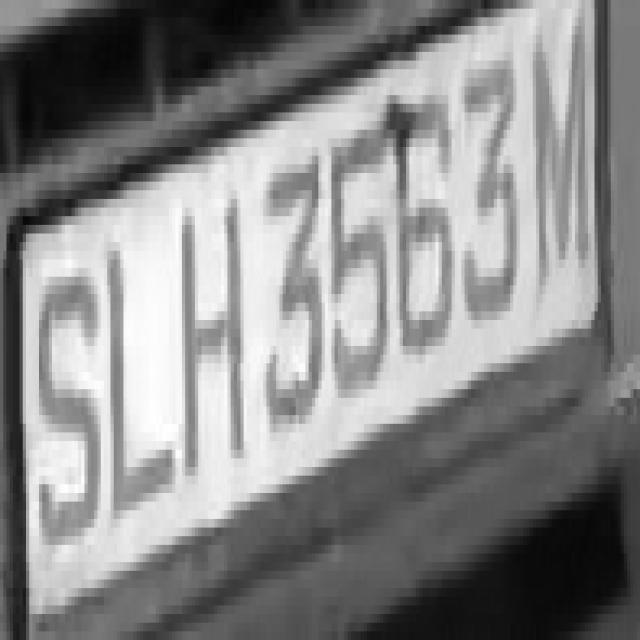3: (256, 112, 322, 450), (458, 43, 523, 372)
5: (331, 95, 390, 415)
6: (386, 69, 454, 372)
H: (172, 147, 250, 519)
L: (91, 208, 172, 536)
M: (520, 35, 591, 302)
S: (32, 251, 104, 571)
